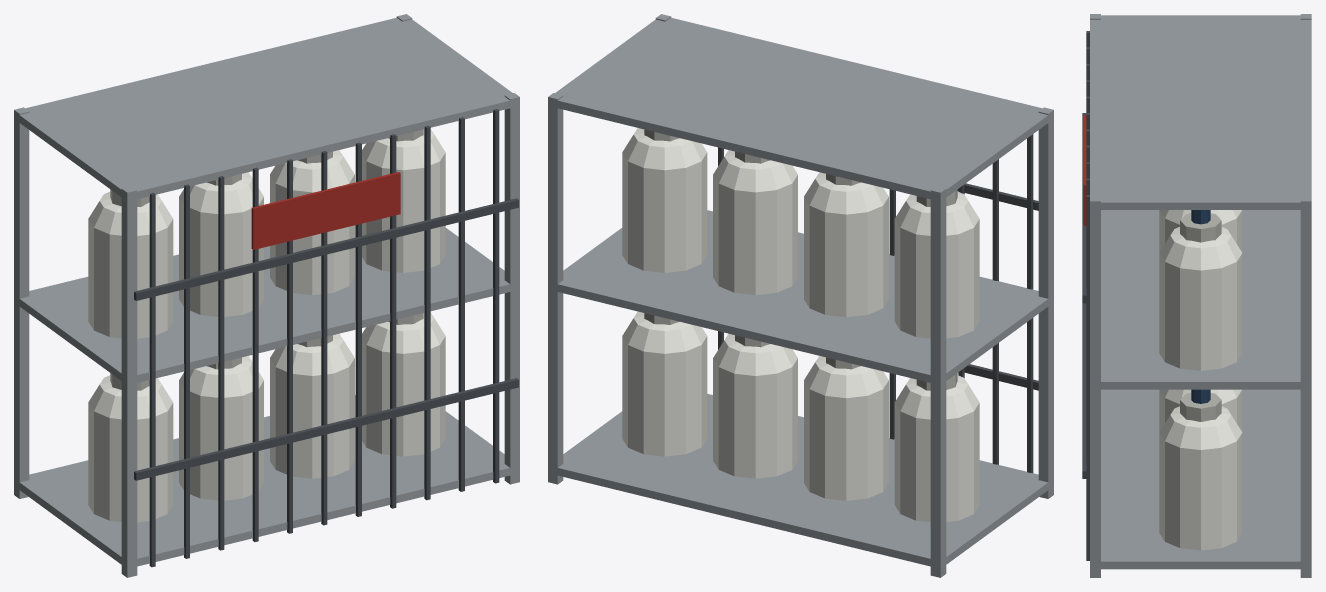
The model's file is cage_gaz.glb.
3 views of the same model, side by side, from view 1: azimuth 30°, elevation 25°; view 2: azimuth 150°, elevation 25°; view 3: azimuth 270°, elevation 25° (orthographic). The views are drawn at different scales.
Parts seen in each view (by area): view 1: shelves, bottles, bars, posts, rails, plate, collars; view 2: shelves, bottles, posts, bars, collars, rails; view 3: shelves, bottles, posts, bars, collars, rails, valves, plate.
Boxes of the visible parts, left/top/right/bottom form: shelves: left=14, top=17, right=519, bottom=568; bottles: left=88, top=129, right=445, bottom=522; bars: left=149, top=109, right=499, bottom=567; posts: left=14, top=14, right=519, bottom=577; rails: left=134, top=198, right=518, bottom=480; plate: left=251, top=172, right=400, bottom=249; collars: left=110, top=129, right=423, bottom=390; shelves: left=548, top=17, right=1048, bottom=568; bottles: left=622, top=128, right=979, bottom=522; posts: left=548, top=14, right=1053, bottom=577; bars: left=718, top=134, right=1033, bottom=472; collars: left=644, top=129, right=957, bottom=390; rails: left=957, top=183, right=1038, bottom=390; shelves: left=1090, top=15, right=1311, bottom=569; bottles: left=1159, top=210, right=1242, bottom=550; posts: left=1090, top=14, right=1311, bottom=577; bars: left=1086, top=31, right=1089, bottom=560; collars: left=1180, top=213, right=1221, bottom=421; rails: left=1082, top=113, right=1086, bottom=478; valves: left=1191, top=210, right=1210, bottom=403; plate: left=1083, top=115, right=1086, bottom=225.
Size of the model in its own units: 1.6 by 1.5 by 0.828.
6 materials, 6 textured.
